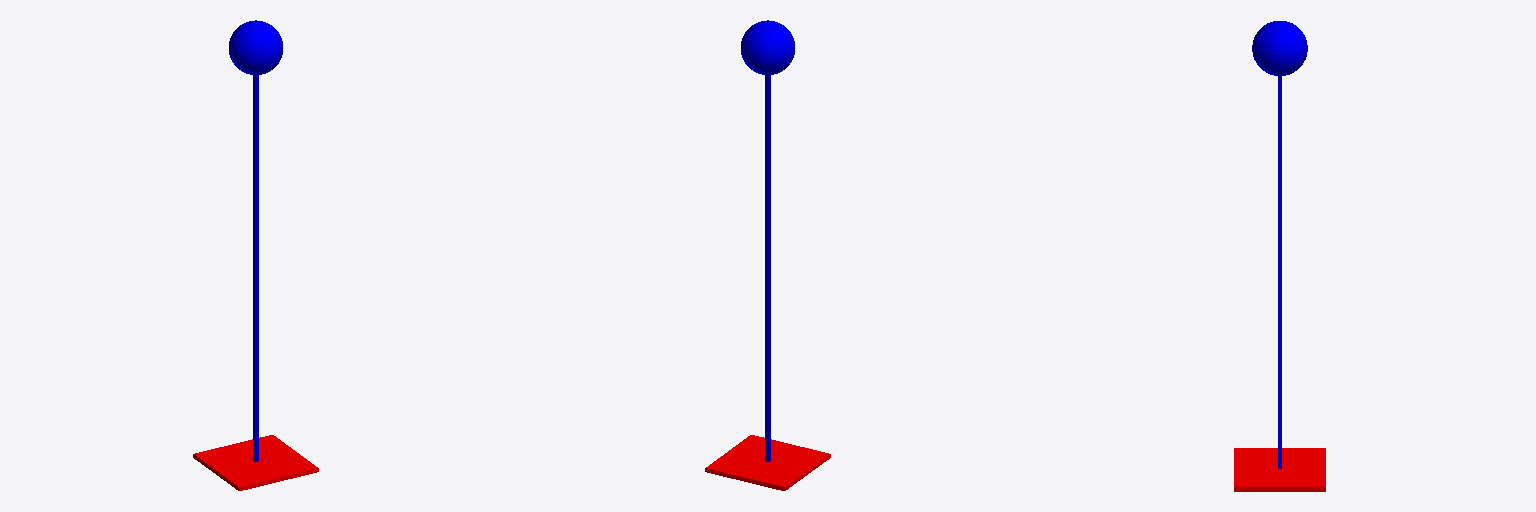
The robot description file, URDF, robot "pendulum":
<?xml version="1.0" ?>
<robot name="pendulum">
    <link name="PendulumMass">
        <visual>
            <origin xyz="0.0 0.0 1.0" rpy="0.0 0.0 0.0" />
            <geometry>
                <sphere radius="0.06"/>
            </geometry>
            <material name="">
                <color rgba="0.0 0.0 1.0 1.0"/>
            </material>
        </visual>
        <inertial>
            <origin xyz="0.0 0.0 1.0" rpy="0.0 0.0 0.0"/>
            <mass value="150.0"/>
            <inertia ixx="0.0" ixy="0.0" ixz="0.0" iyy="0.0" iyz="0.0" izz="0.0"/>
        </inertial>
    </link>
    <joint name="PendulumMassJoint" type="fixed">
      <origin xyz="0.0 0.0 0.0" rpy="0.0 0.0 0.0"/>
      <child link="PendulumArm"/>
      <parent link="PendulumMass"/>
    </joint>

    <link name="PendulumArm">
        <visual>
            <origin xyz="0.0 0.0 0.5" rpy="0.0 0.0 0.0" />
            <geometry>
                <box size="0.01 0.01 1.0"/>
            </geometry>
            <material name="">
                <color rgba="0.0 0.0 1.0 1.0"/>
            </material>
        </visual>
        <inertial>
            <origin xyz="0.0 0.0 0.5" rpy="0.0 0.0 0.0"/>
            <mass value="0.0"/>
            <inertia ixx="0.0" ixy="0.0" ixz="0.0" iyy="0.0" iyz="0.0" izz="0.0"/>
        </inertial>
    </link>

    <joint name="PendulumJoint" type="revolute">
      <origin xyz="0.0 0.0 0.0" rpy="0.0 0.0 0.0"/>
      <axis xyz="0 1 0"/>
      <child link="Foot"/>
      <parent link="PendulumArm"/>
      <limit effort="1000" velocity="100" lower="-100" upper="100"/>
    </joint>

    <link name="Foot">
        <visual>
            <origin xyz="0.0 0.0 0.0" rpy="0.0 0.0 0.0" />
            <geometry>
                <box size="0.2 0.2 0.01"/>
            </geometry>
            <material name="">
                <color rgba="1.0 0.0 0.0 1.0"/>
            </material>
        </visual>
        <collision>
            <origin xyz="0.0 0.0 0.0" rpy="0.0 0.0 0.0" />
            <geometry>
                <box size="0.2 0.2 0.01"/>
            </geometry>
            <material name="">
                <color rgba="1.0 0.0 0.0 1.0"/>
            </material>
        </collision>
        <inertial>
            <origin xyz="0.0 0.0 0.0" rpy="0.0 0.0 0.0"/>
            <mass value="2.0"/>
            <inertia ixx="0.01" ixy="0.0" ixz="0.0" iyy="0.01" iyz="0.0" izz="0.01"/>
        </inertial>
    </link>

</robot>

--- What the picture shows (computed from the rendered views, not written in the file) ---
The picture shows the robot from 3 angles, left to right: view 1: azimuth 30°, elevation 25°; view 2: azimuth 150°, elevation 25°; view 3: azimuth 270°, elevation 25°; orthographic projection.
Model pendulum with 3 links and 2 joints (1 revolute, 1 fixed), rooted at PendulumMass, posed all joints at 0.
Visible links, largest first — view 1: Foot, PendulumMass, PendulumArm; view 2: Foot, PendulumMass, PendulumArm; view 3: Foot, PendulumMass, PendulumArm.
Link boxes in pixels (left/top/right/bottom): Foot: left=193, top=435, right=318, bottom=490; PendulumMass: left=229, top=20, right=282, bottom=74; PendulumArm: left=253, top=75, right=258, bottom=461; Foot: left=705, top=435, right=830, bottom=490; PendulumMass: left=741, top=20, right=794, bottom=74; PendulumArm: left=765, top=75, right=770, bottom=461; Foot: left=1234, top=448, right=1325, bottom=491; PendulumMass: left=1252, top=21, right=1307, bottom=75; PendulumArm: left=1278, top=76, right=1281, bottom=468.
Bounding box of the posed robot: 0.2 × 0.2 × 1.06 m (x, y, z).
Geometry: primitives only (box / cylinder / sphere), no mesh files.
